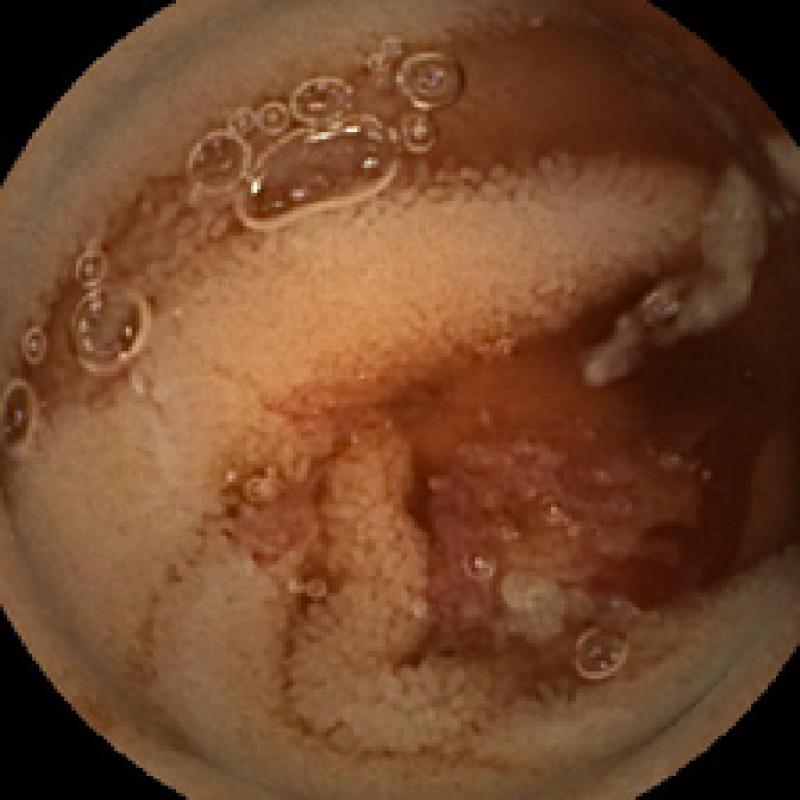bleeding: (416, 350, 800, 642)
